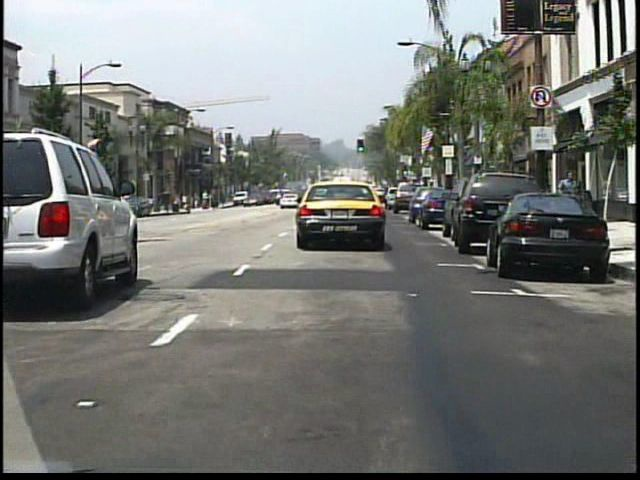person: (557, 167, 583, 227), (211, 192, 219, 210)
